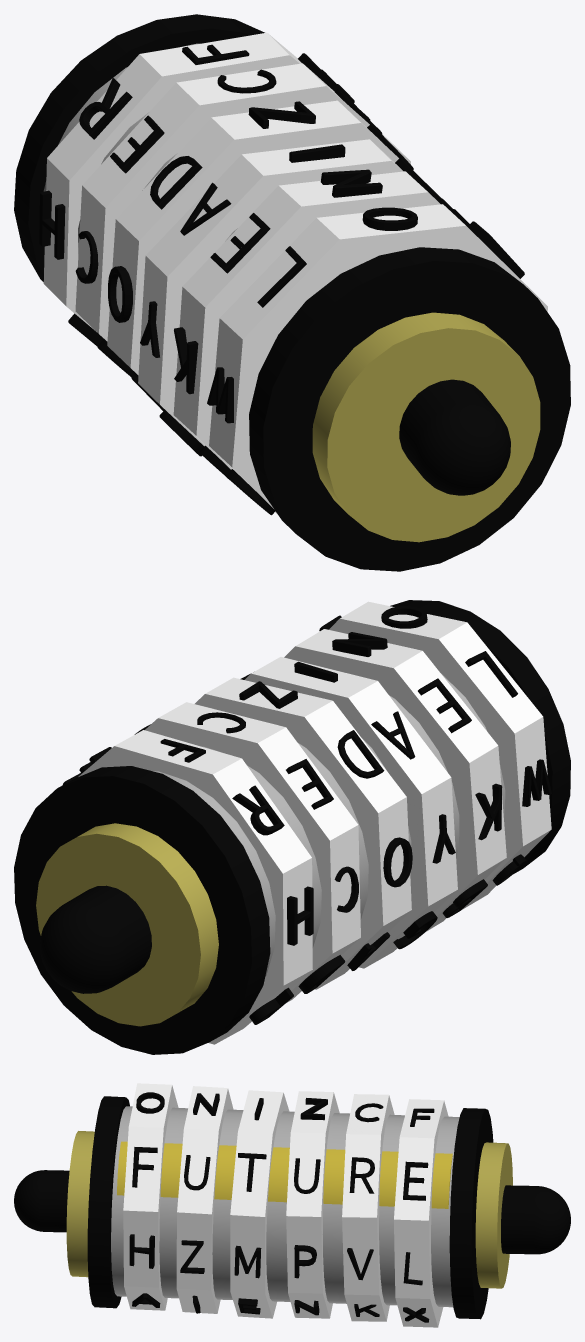
File: word puzzle lock.fbx
3 renders of one model, top to bottom at view 1: azimuth 30°, elevation 25°; view 2: azimuth 150°, elevation 25°; view 3: azimuth 270°, elevation 25°, orthographic. The views are drawn at different scales.
Parts seen in each view (by area): view 1: 2672d053-63fd-49cd-820a-245215af3a94; view 2: 2672d053-63fd-49cd-820a-245215af3a94; view 3: 2672d053-63fd-49cd-820a-245215af3a94.
Boxes of the visible parts, x1,y1,x2,y2 form: 2672d053-63fd-49cd-820a-245215af3a94: [14, 14, 570, 571]; 2672d053-63fd-49cd-820a-245215af3a94: [14, 600, 570, 1054]; 2672d053-63fd-49cd-820a-245215af3a94: [14, 1083, 570, 1327].
Bounding box in the file's own units: 15462 × 13696 × 33456.
